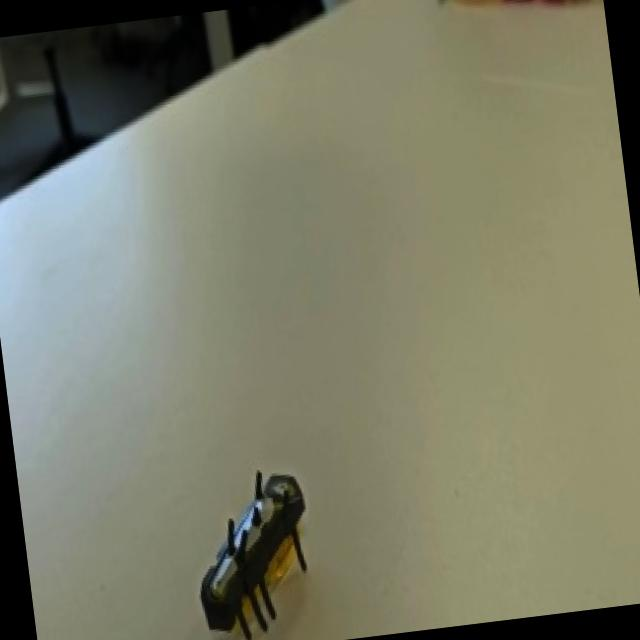6_NanoBug_GrisOscuro: (166, 394, 361, 640)
